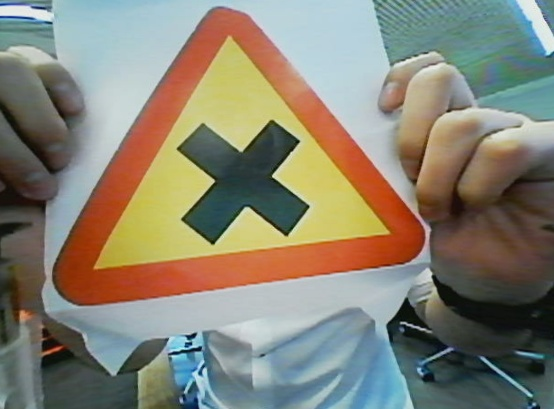junction: (26, 12, 427, 325)
